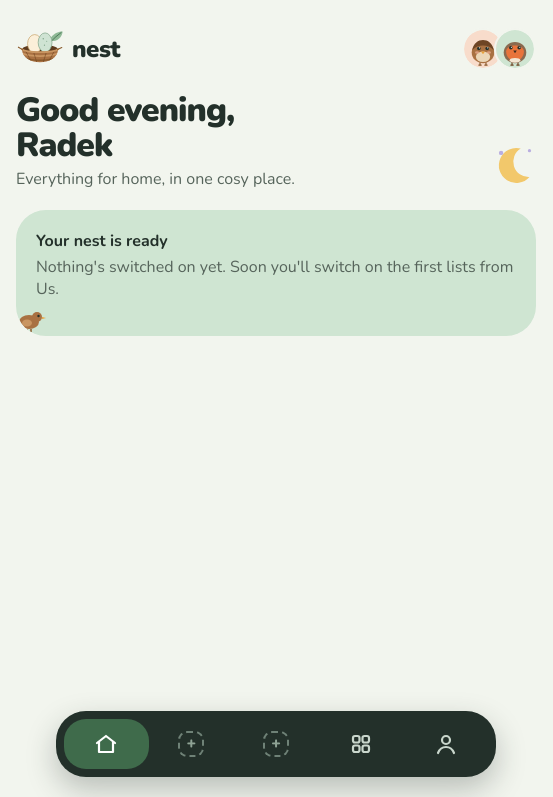
us › log out of this phone
Click the button named "Us" at {"x": 446, "y": 744}, box [403,719,488,769]
(page scrolled)
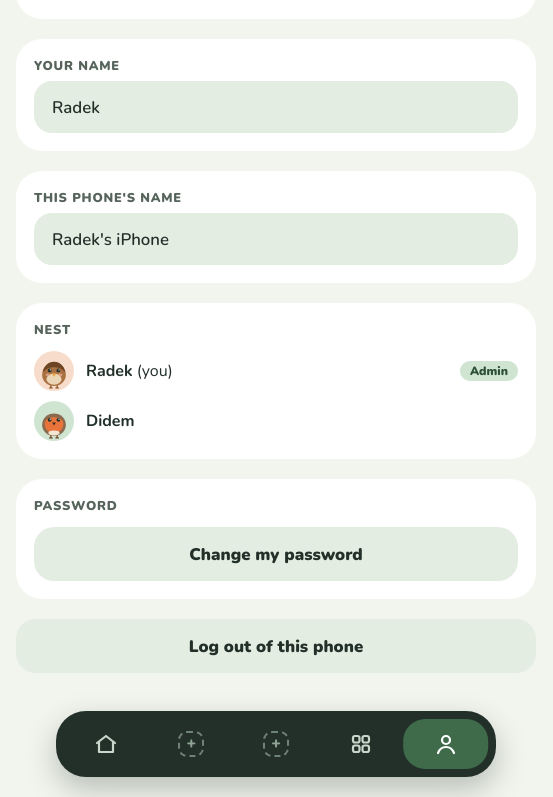
Click the button "Log out of this phone" at {"x": 276, "y": 646}, box [16,619,536,673]
(page scrolled)
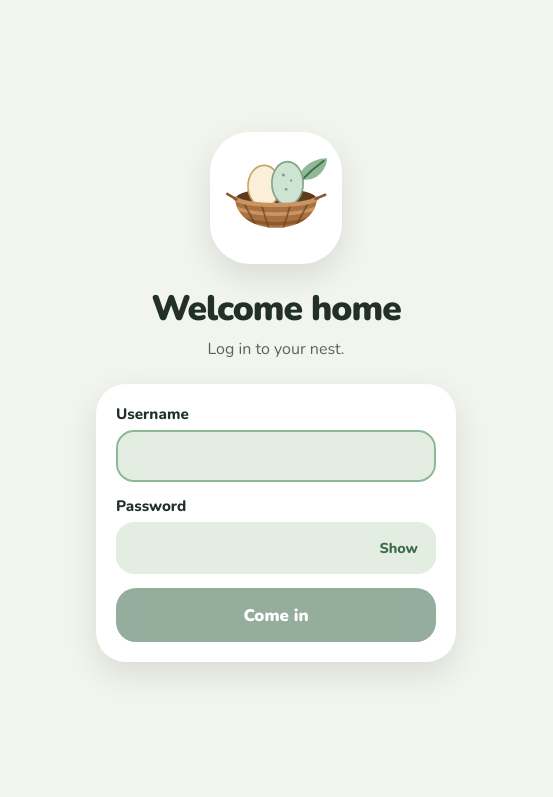
Expected: the heading "Welcome home" is shown, [151,284,401,332]
